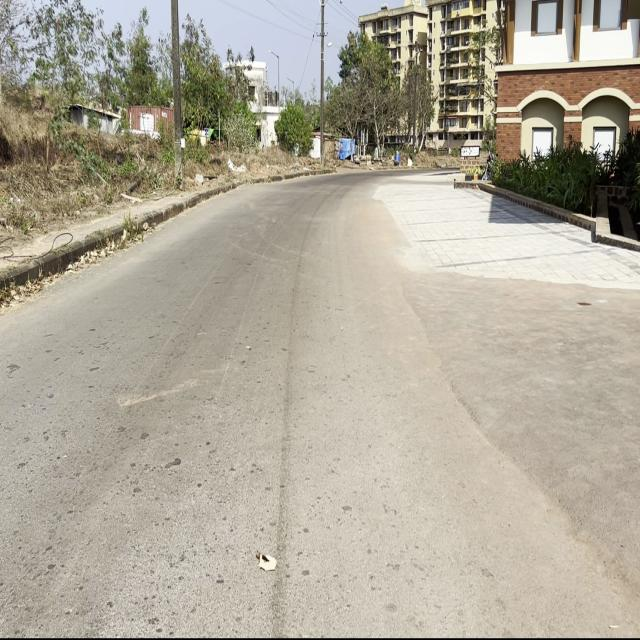Road: (2, 175, 638, 636)
